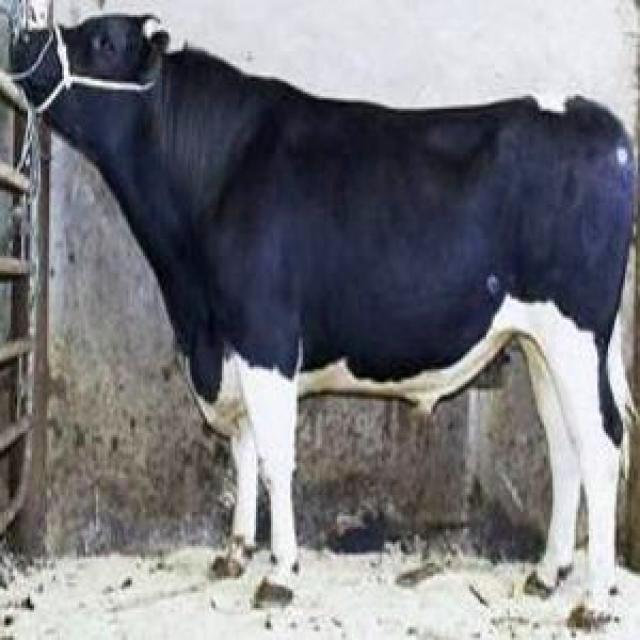cow: (14, 15, 632, 582)
